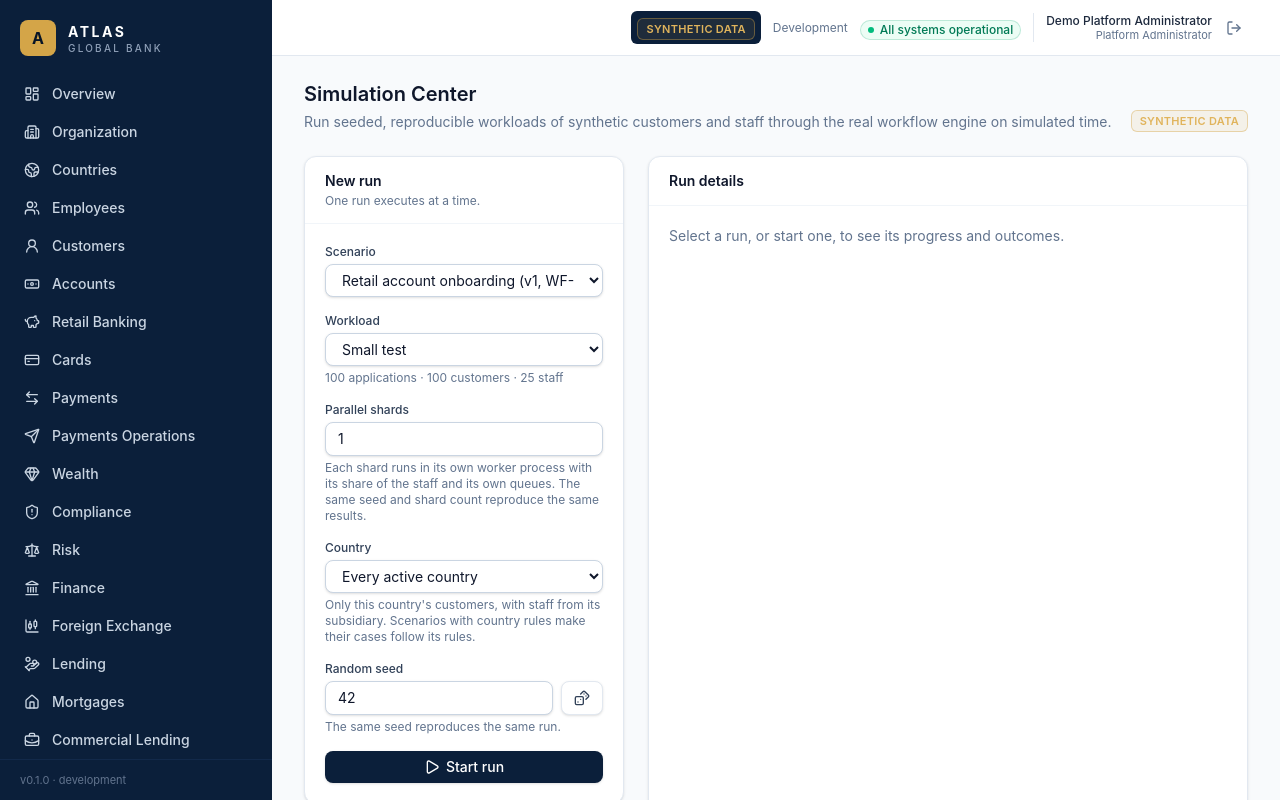
Scenario: Simulation Center › runs the large profile as parallel shards and shows each shard's progress
Select "Large test (sharded)" in the dropdown labelled "Workload": (464, 350) [325, 333, 603, 366]
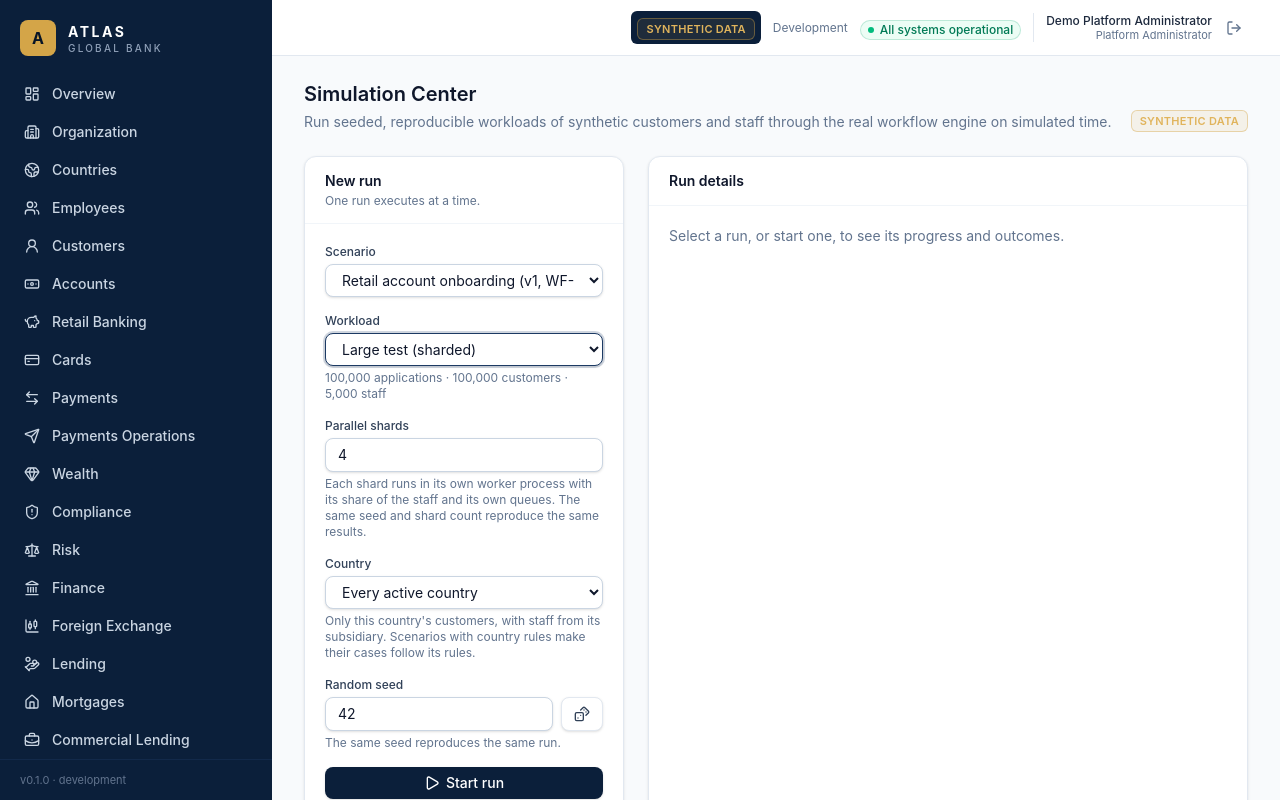
Result: the number field labelled "Parallel shards" holds "4"
Replace the text in the number field labelled "Parallel shards" with "2": (464, 455) [325, 438, 603, 472]
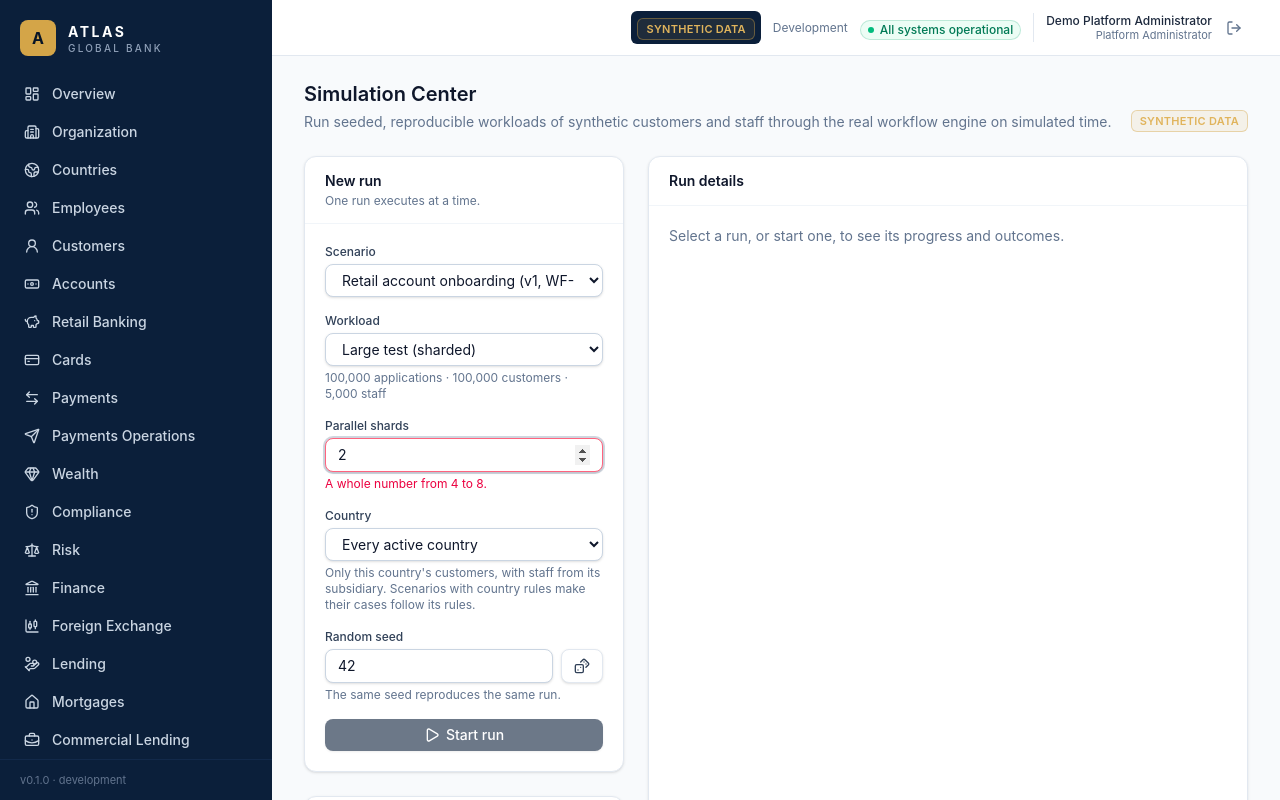
Result: the button "Start run" is disabled at [325, 719, 603, 751]
Replace the text in the number field labelled "Parallel shards" with "8": (464, 455) [325, 438, 603, 472]
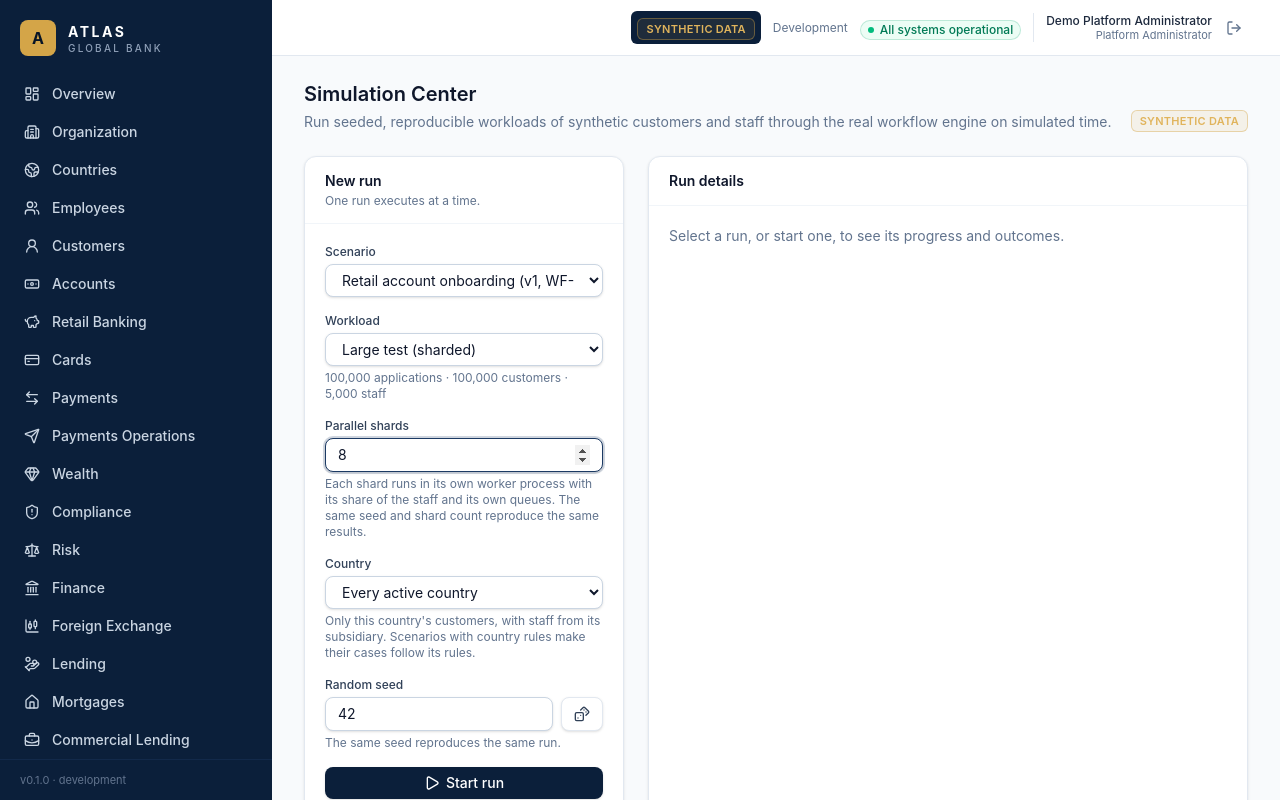
Click the button "Start run": (464, 783) [325, 767, 603, 799]
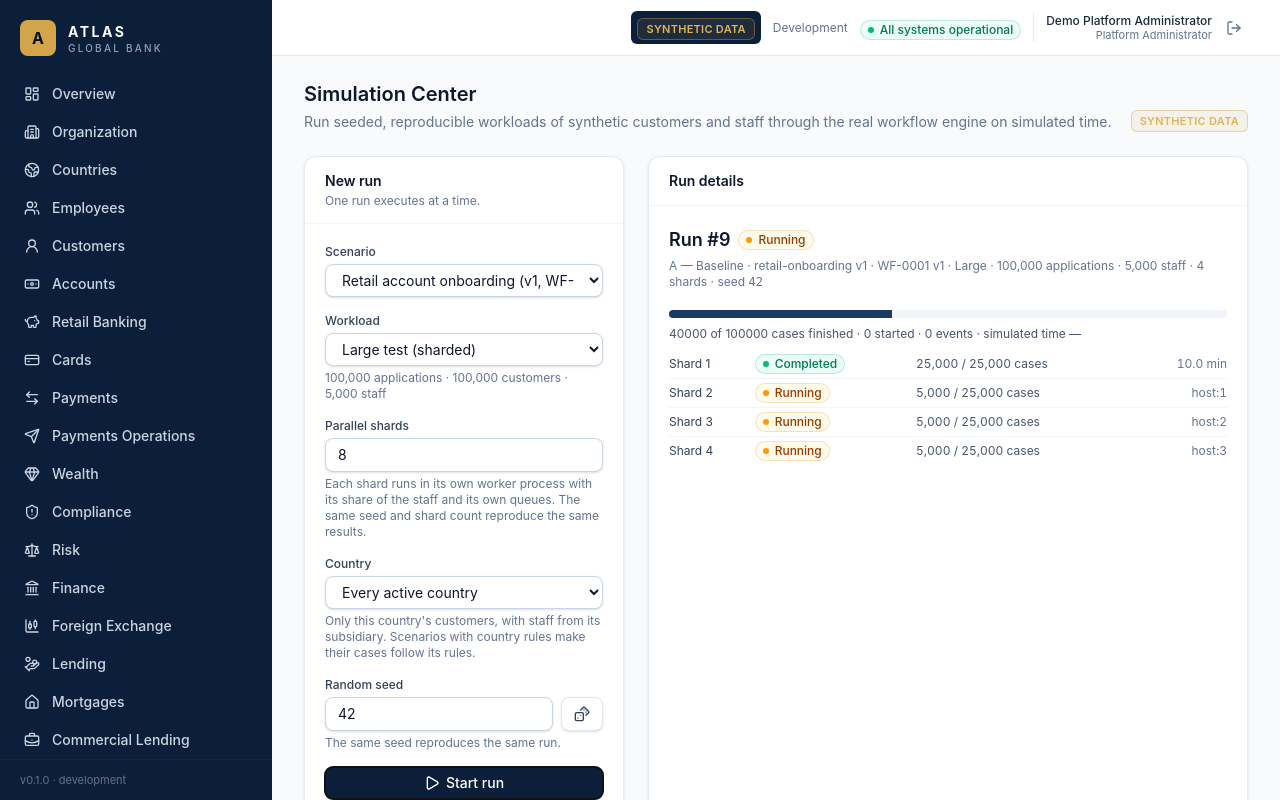
Result: the number of rows is 4 at [669, 350, 1227, 378]; [669, 378, 1227, 408]; [669, 408, 1227, 436]; [669, 436, 1227, 465]
Result: the text "25,000 / 25,000 cases" is shown at [916, 350, 1145, 378]
Result: the text "10.0 min" is shown at [1145, 350, 1227, 378]
